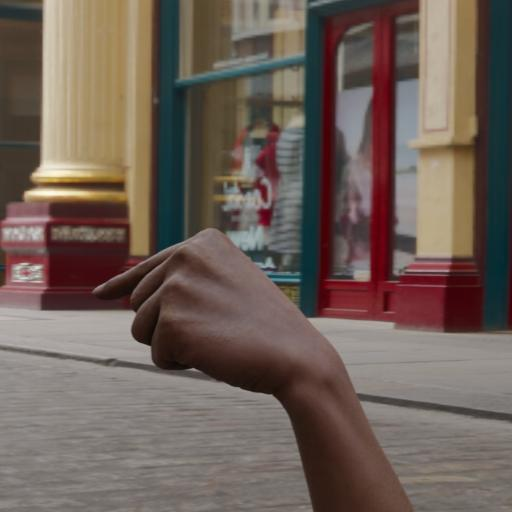G: (82, 152, 422, 512)
